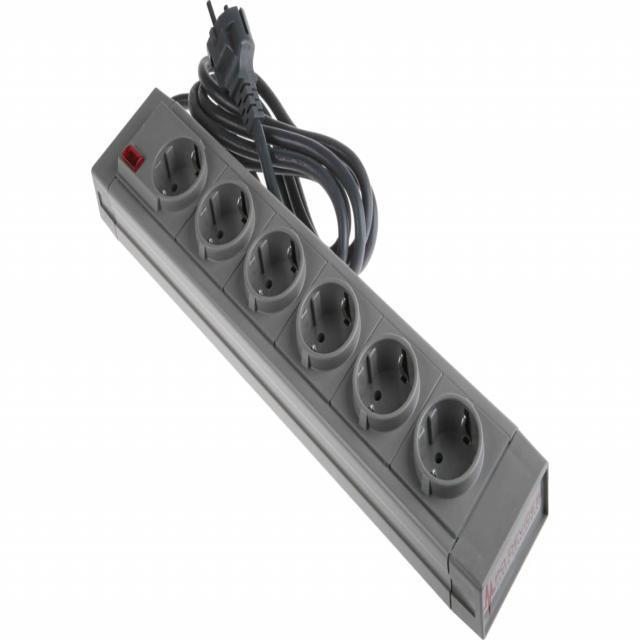typeb: (85, 72, 623, 640)
